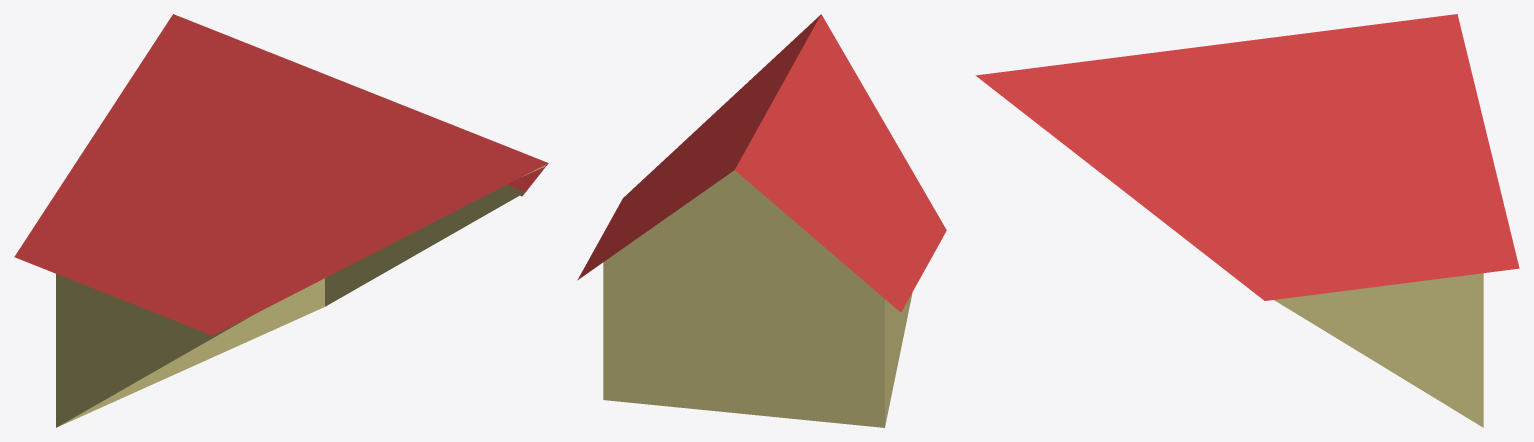
3 renders of one model, left to right at view 1: azimuth 30°, elevation 25°; view 2: azimuth 150°, elevation 25°; view 3: azimuth 270°, elevation 25°, orthographic. The views are drawn at different scales.
Size of the model in its own units: 8.67 by 9.44 by 6.42.
